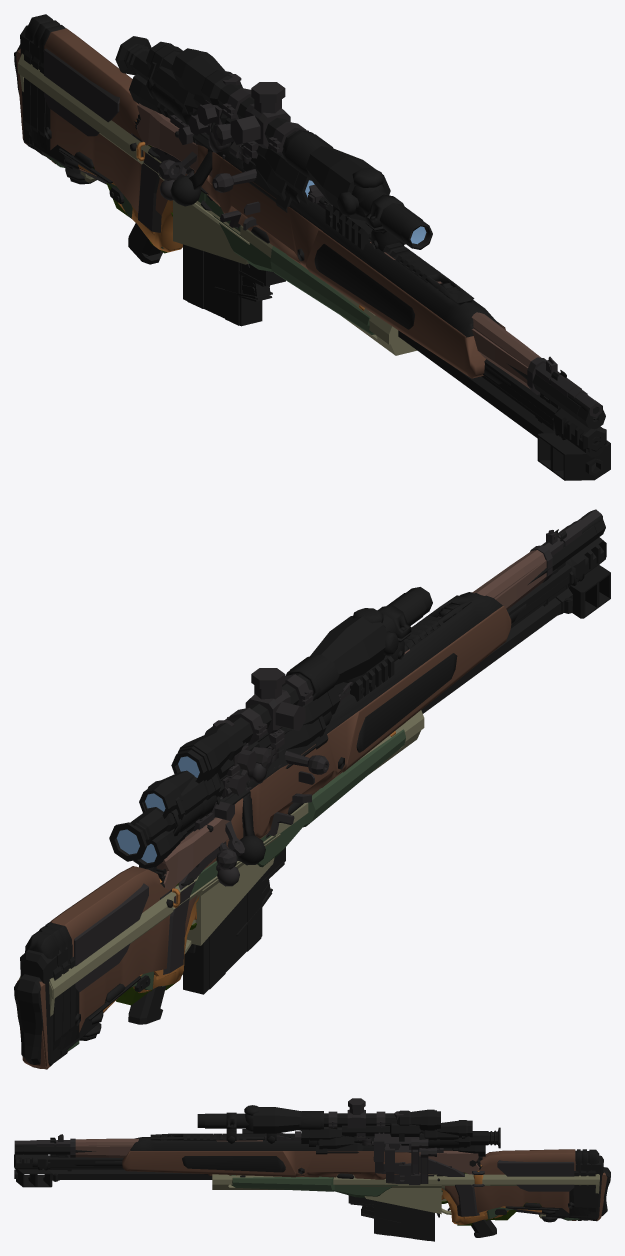
Rendered from Gun.fbx.
3 renders of one model, top to bottom at view 1: azimuth 30°, elevation 25°; view 2: azimuth 150°, elevation 25°; view 3: azimuth 270°, elevation 25°, orthographic. The views are drawn at different scales.
Visible parts, largest first — view 1: STEYR, BARRET, M24A2, SAKO, LIU, L115A3, AWP, PSL, SVD; view 2: STEYR, BARRET, M24A2, SAKO, LIU, SVD, AWP, L115A3, PSL; view 3: STEYR, BARRET, M24A2, SAKO, PSL, LIU, SVD, L115A3, AWP.
Part boxes in pixels (left/top/right/bottom): STEYR: left=25, top=14, right=602, bottom=420; BARRET: left=14, top=44, right=610, bottom=480; M24A2: left=20, top=25, right=605, bottom=429; SAKO: left=27, top=62, right=606, bottom=451; LIU: left=137, top=103, right=601, bottom=417; L115A3: left=29, top=57, right=600, bottom=443; AWP: left=24, top=49, right=605, bottom=457; PSL: left=22, top=41, right=603, bottom=454; SVD: left=16, top=36, right=595, bottom=457; STEYR: left=25, top=512, right=602, bottom=1052; BARRET: left=14, top=565, right=610, bottom=1064; M24A2: left=20, top=519, right=605, bottom=1061; SAKO: left=51, top=537, right=606, bottom=1063; LIU: left=32, top=509, right=601, bottom=1068; SVD: left=17, top=567, right=569, bottom=1069; AWP: left=53, top=544, right=605, bottom=1050; L115A3: left=57, top=554, right=593, bottom=1051; PSL: left=45, top=529, right=566, bottom=1069; STEYR: left=15, top=1105, right=599, bottom=1220; BARRET: left=14, top=1143, right=610, bottom=1241; M24A2: left=14, top=1098, right=603, bottom=1218; SAKO: left=14, top=1127, right=597, bottom=1223; PSL: left=14, top=1111, right=600, bottom=1223; LIU: left=14, top=1131, right=479, bottom=1174; SVD: left=48, top=1127, right=607, bottom=1220; L115A3: left=18, top=1138, right=591, bottom=1224; AWP: left=14, top=1136, right=595, bottom=1225.
Size of the model in its own units: 1.83 by 5.29 by 20.84.
Materials: 2 (1 with a texture image).
